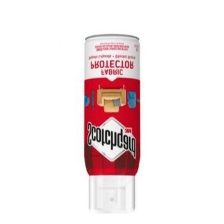aerosol_cans: (79, 32, 144, 217)
